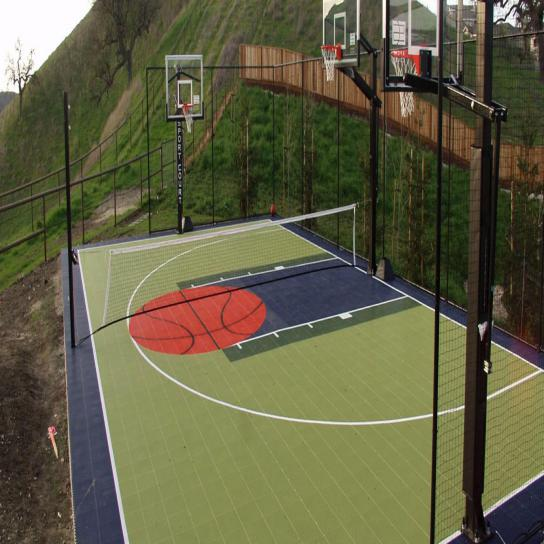basketball-hoop: (388, 44, 421, 118), (321, 42, 338, 84), (182, 99, 195, 133)
